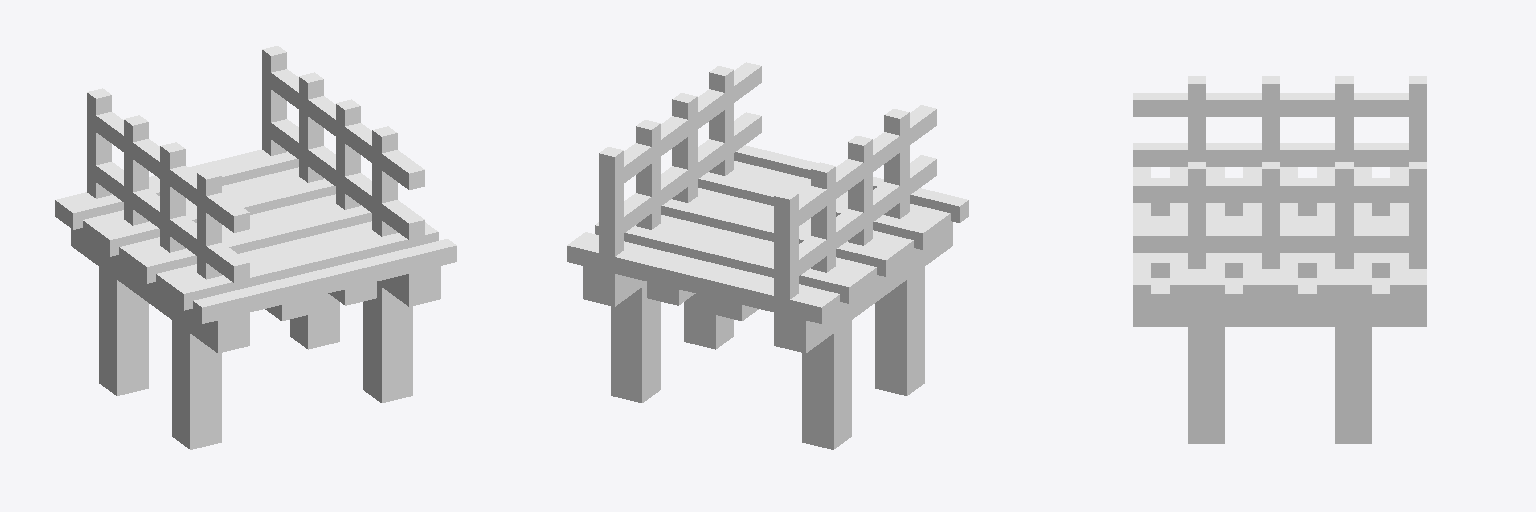
File: Puente.obj
3 views of the same model, side by side, from view 1: azimuth 30°, elevation 25°; view 2: azimuth 150°, elevation 25°; view 3: azimuth 270°, elevation 25° (orthographic).
Parts seen in each view (by area): view 1: object 1; view 2: object 1; view 3: object 1.
Part boxes in pixels (left/top/right/bottom): object 1: left=55, top=46, right=456, bottom=449; object 1: left=567, top=62, right=968, bottom=449; object 1: left=1133, top=76, right=1426, bottom=443.
Size of the model in its own units: 1.6 by 1.6 by 1.6.